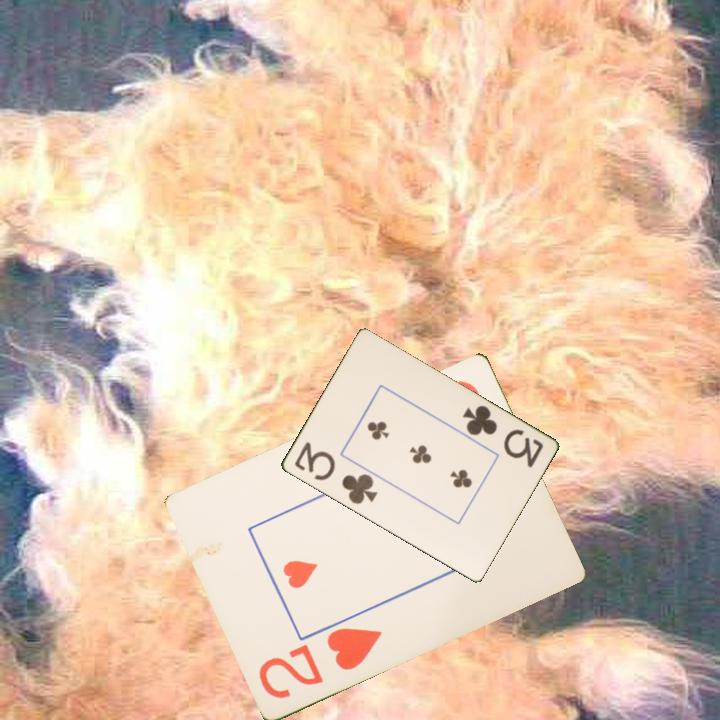2h: (255, 623, 385, 702)
3c: (290, 438, 380, 507), (458, 401, 546, 471)
